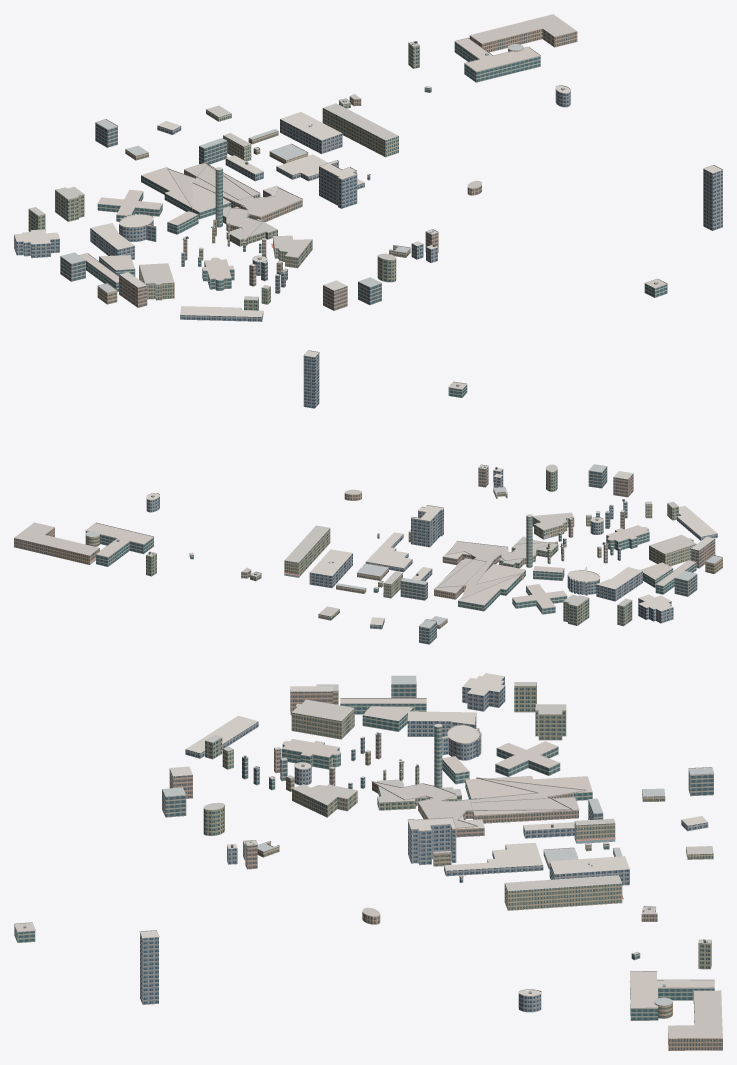
The picture shows the model from 3 angles, top to bottom: view 1: azimuth 30°, elevation 25°; view 2: azimuth 150°, elevation 25°; view 3: azimuth 270°, elevation 25°; orthographic projection. The views are drawn at different scales.
Visible parts, largest first — view 1: Station 13 surrounding real OSM building footprints; view 2: Station 13 surrounding real OSM building footprints; view 3: Station 13 surrounding real OSM building footprints.
Part boxes in pixels (box(x1,y1,x2,y2)): Station 13 surrounding real OSM building footprints: box(14, 14, 722, 321); Station 13 surrounding real OSM building footprints: box(14, 350, 722, 644); Station 13 surrounding real OSM building footprints: box(14, 673, 722, 1050).
Bounding box in the file's own units: 580 × 50.2 × 480.
23 materials, 8 textured.
